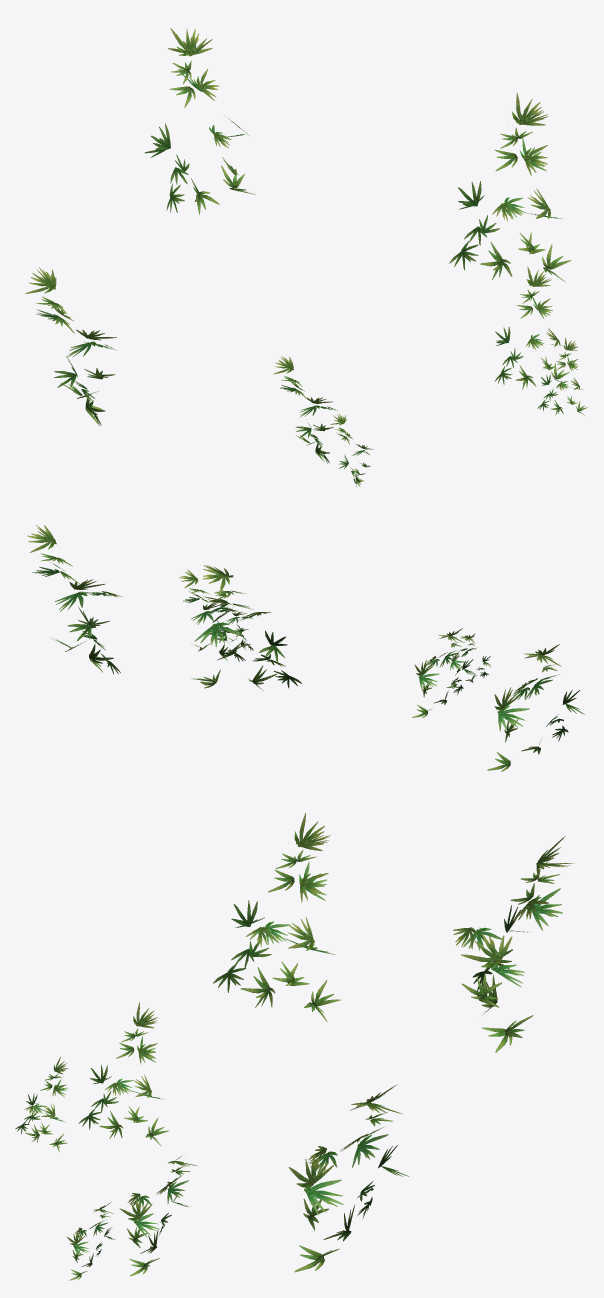
File: Area_01_2.fbx
The picture shows the model from 3 angles, top to bottom: view 1: azimuth 30°, elevation 25°; view 2: azimuth 150°, elevation 25°; view 3: azimuth 270°, elevation 25°; orthographic projection. The views are drawn at different scales.
Visible parts, largest first — view 1: Area_01_2; view 2: Area_01_2; view 3: Area_01_2.
Part boxes in pixels (left/top/right/bottom): Area_01_2: left=25, top=28, right=587, bottom=486; Area_01_2: left=27, top=525, right=584, bottom=771; Area_01_2: left=15, top=813, right=573, bottom=1280.
Bounding box in the file's own units: 5849 × 2939 × 4518.
